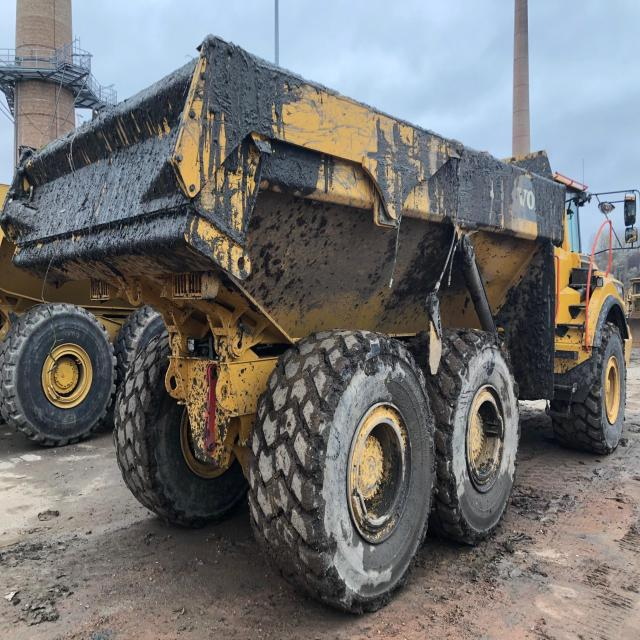dump_truck: (6, 33, 640, 602)
